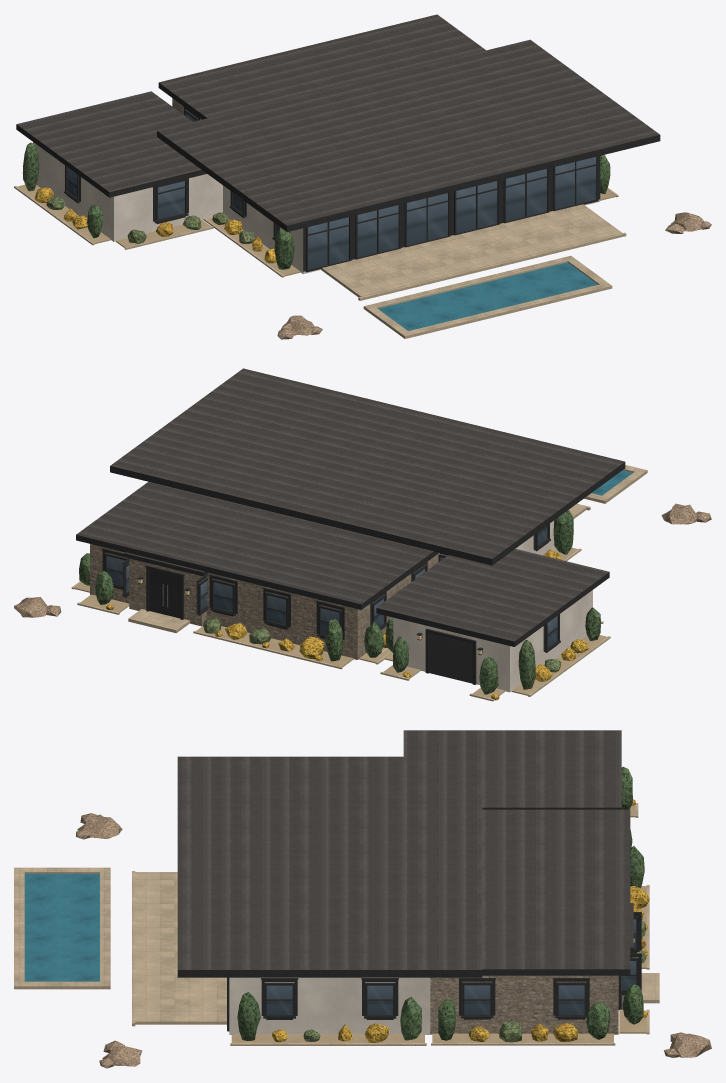
The model's file is desert_modern_pavilion.fbx.
3 renders of one model, top to bottom at view 1: azimuth 30°, elevation 25°; view 2: azimuth 150°, elevation 25°; view 3: azimuth 270°, elevation 25°, orthographic. The views are drawn at different scales.
Parts seen in each view (by area): view 1: desert_modern_pavilion_LOD0; view 2: desert_modern_pavilion_LOD0; view 3: desert_modern_pavilion_LOD0.
Boxes of the visible parts, <box> form: desert_modern_pavilion_LOD0: <box>14,14,711,339</box>; desert_modern_pavilion_LOD0: <box>14,368,711,701</box>; desert_modern_pavilion_LOD0: <box>14,730,711,1068</box>.
Size of what is drawn, in the model's own units: 27.79 by 4.08 by 29.61.
Materials: 2 (2 with a texture image).
